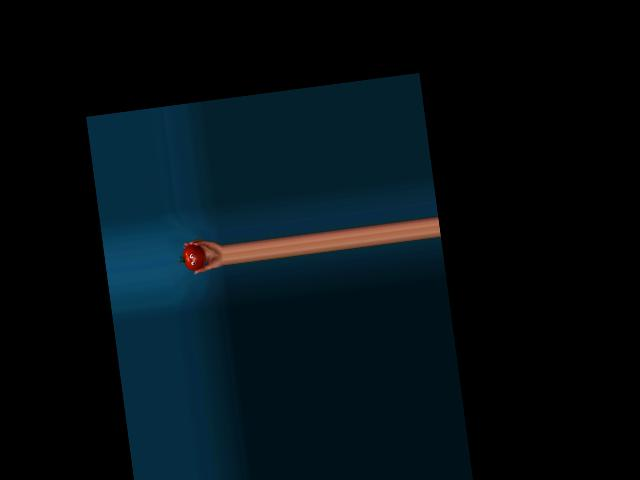tomato: (181, 242, 207, 272)
